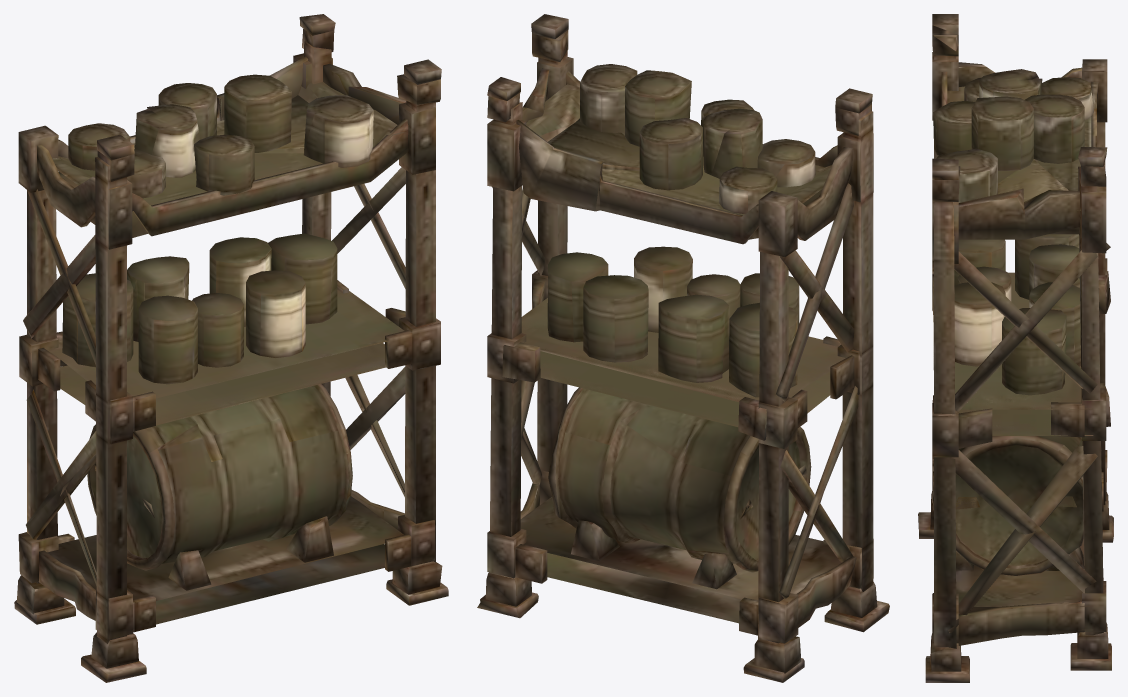
Rendered from bunker_shelf.glb.
3 views of the same model, side by side, from view 1: azimuth 30°, elevation 25°; view 2: azimuth 150°, elevation 25°; view 3: azimuth 270°, elevation 25° (orthographic). The views are drawn at different scales.
Bounding box in the file's own units: 0.2007 × 0.2935 × 0.1016.
1 material, 1 textured.
